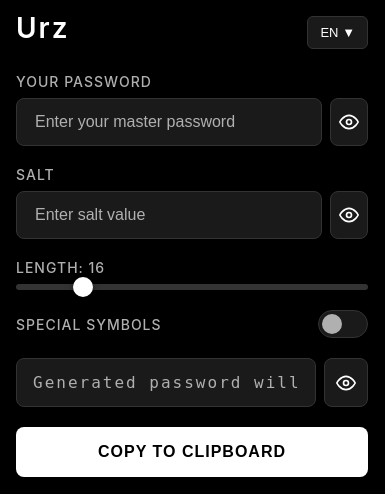
Test: Password Generator App › should generate password when password and salt are entered
Note: Enter password - use exact placeholder text to avoid ambiguity
Type "mypassword" into the password field with placeholder "Enter your master password" at (169, 122), box left=16, top=98, right=322, bottom=146
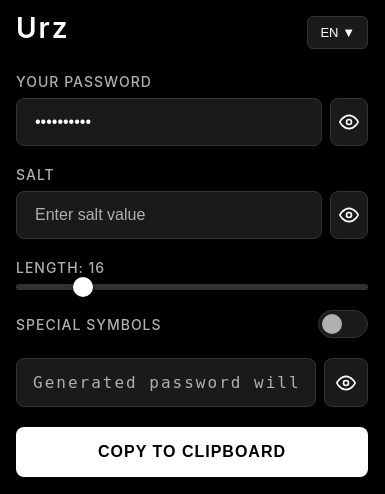
Note: Enter salt
Type "mysalt" into the password field with placeholder "Enter salt value" at (169, 215), box left=16, top=191, right=322, bottom=239
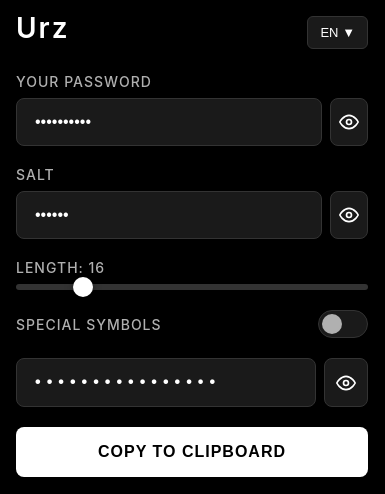
Expected: the 3rd password field with placeholder "Generated password will appear here" holds "GeneratedPass123", left=16, top=358, right=316, bottom=407
